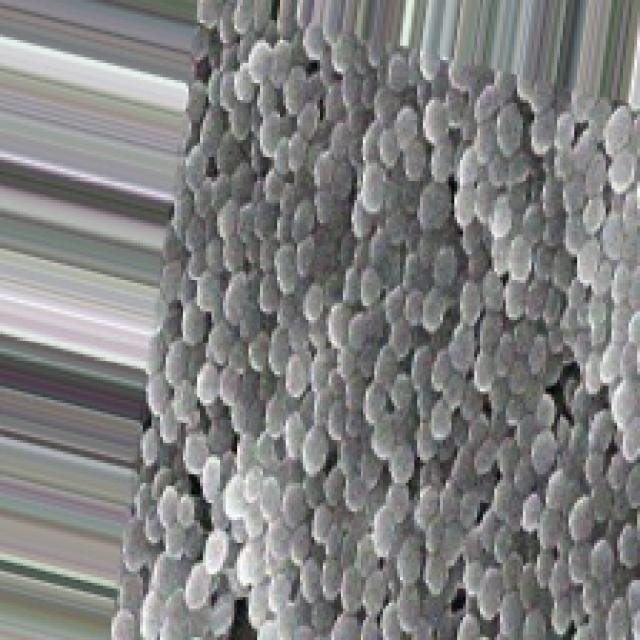Spherical_bacteria: (103, 0, 637, 637)
